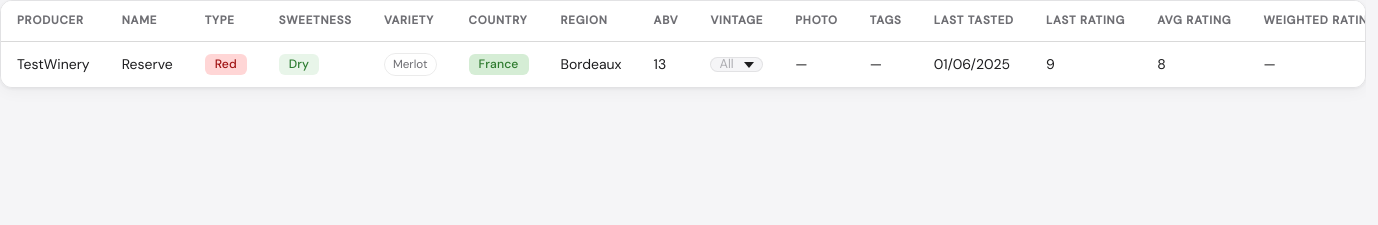
Test: vintage column shows a custom select with unique vintages
This screenshot has width=1378, height=225.
Click the button "All" at (737, 65), box 710,57 -> 763,72
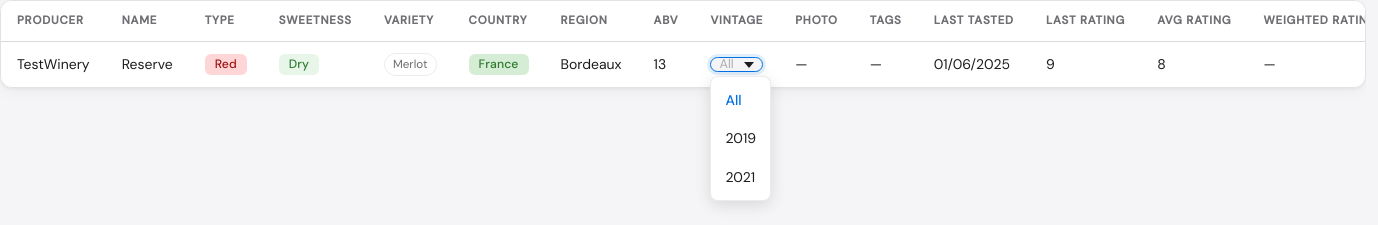
Expected: the list item "2019" is shown, 725,129 -> 756,147
Expected: the list item "2021" is shown, 725,168 -> 755,186
